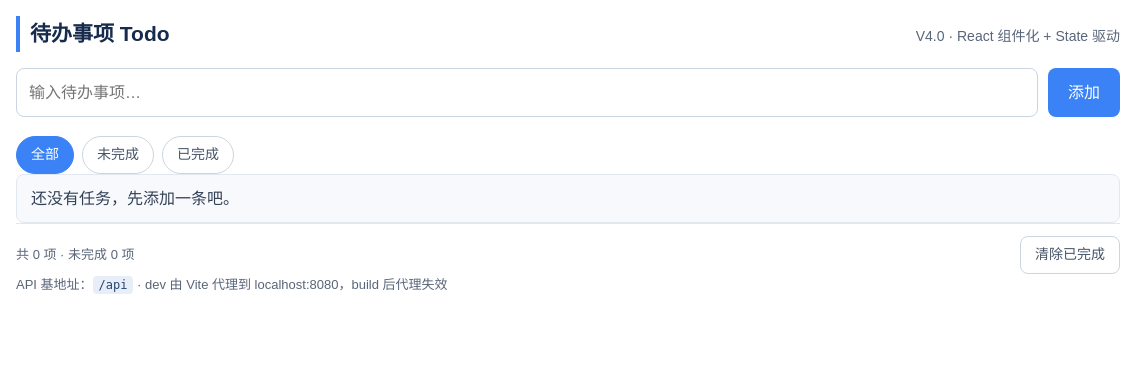
Test: 行为4：点击删除按钮，列表少一项且计数同步
Type "任务A" into the field named "待办事项内容" at (527, 92), box [16,68,1038,117]
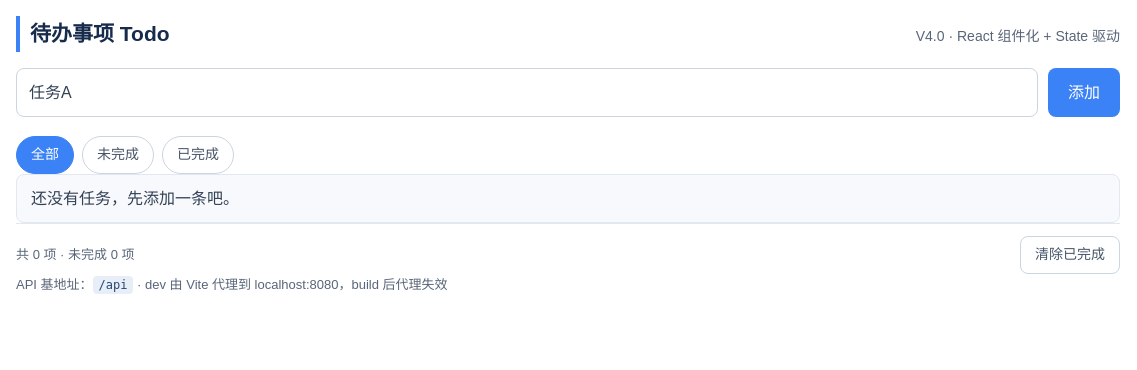
Click the button "添加" at (1084, 92), box [1048,68,1120,117]
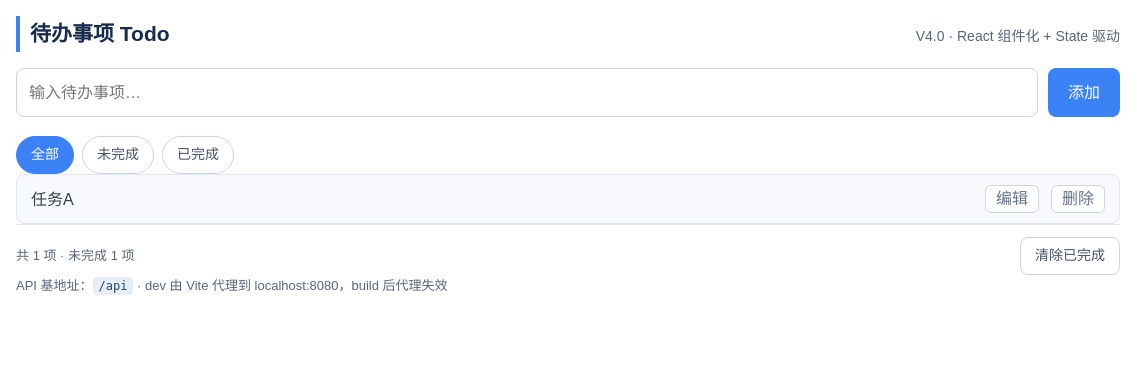
Type "任务B" into the field named "待办事项内容" at (527, 92), box [16,68,1038,117]
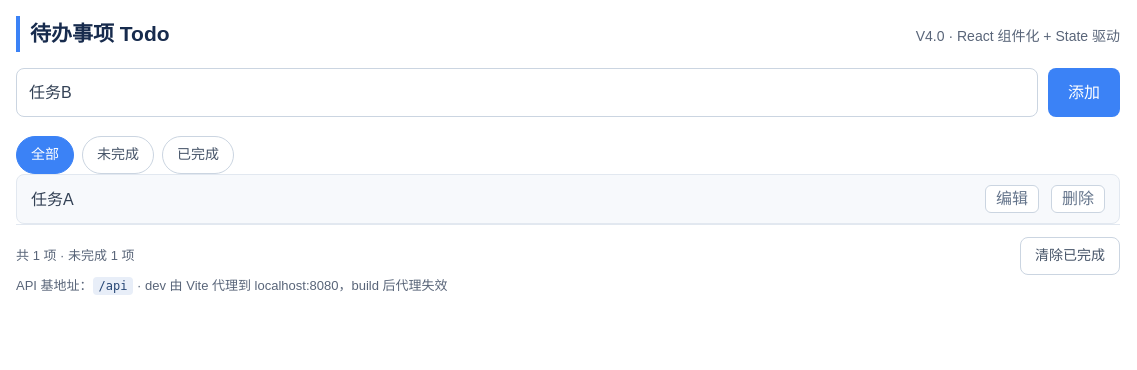
Click the button "添加" at (1084, 92), box [1048,68,1120,117]
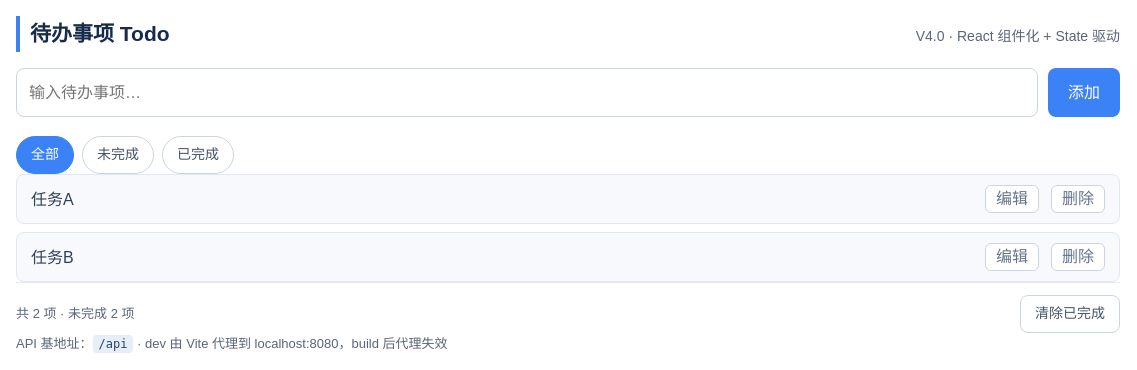
Click the button with aria-label "删除：任务A" at (1078, 199), box [1051,185,1105,213]
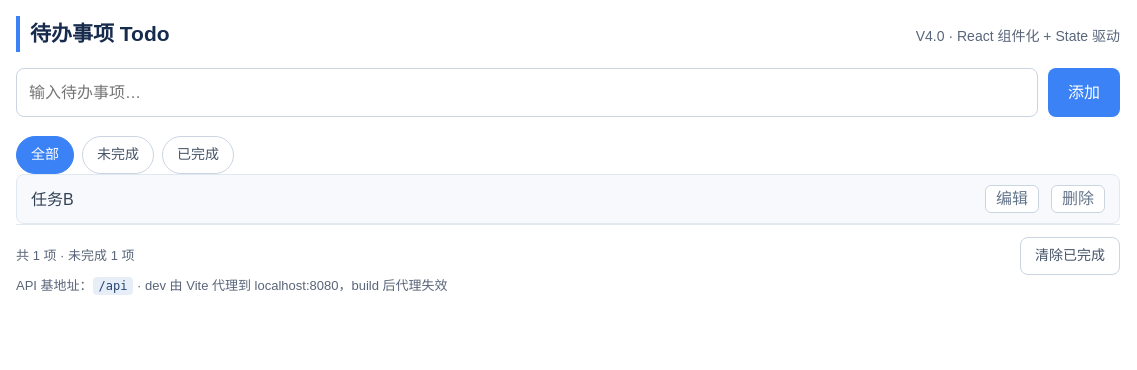
Check: the text "任务A" is gone
Check: the number of list items is 1, box [16,174,1120,224]
Check: the text "共 1 项 · 未完成 1 项" is shown, box [16,245,134,267]
